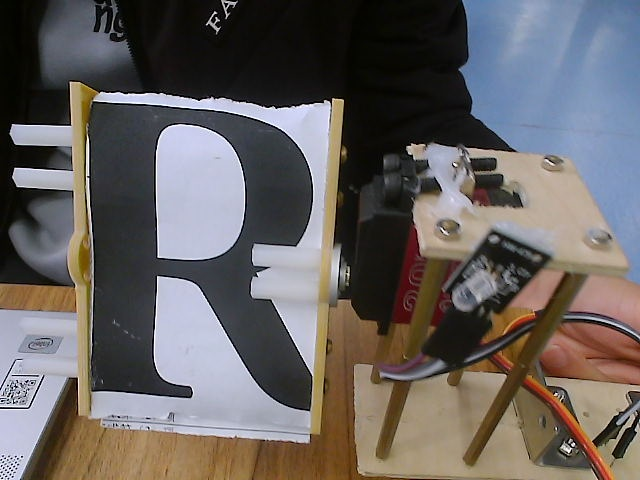R: (8, 74, 368, 467)
